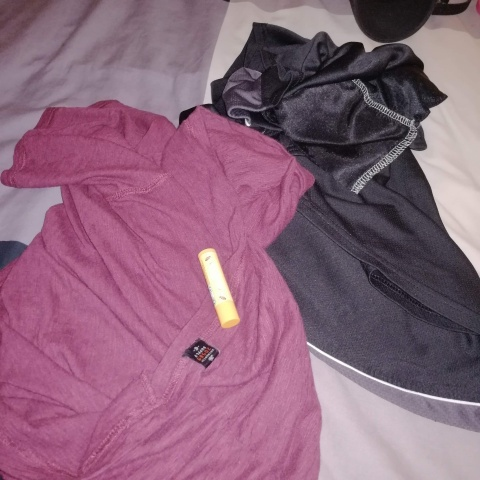chapstick: (197, 247, 240, 331)
